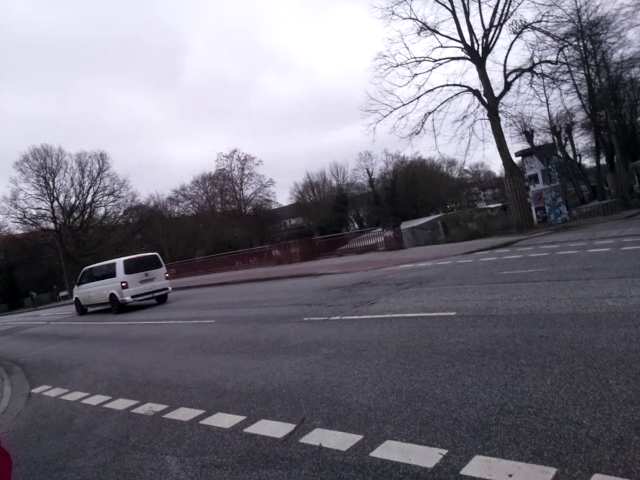car: (70, 245, 171, 318)
